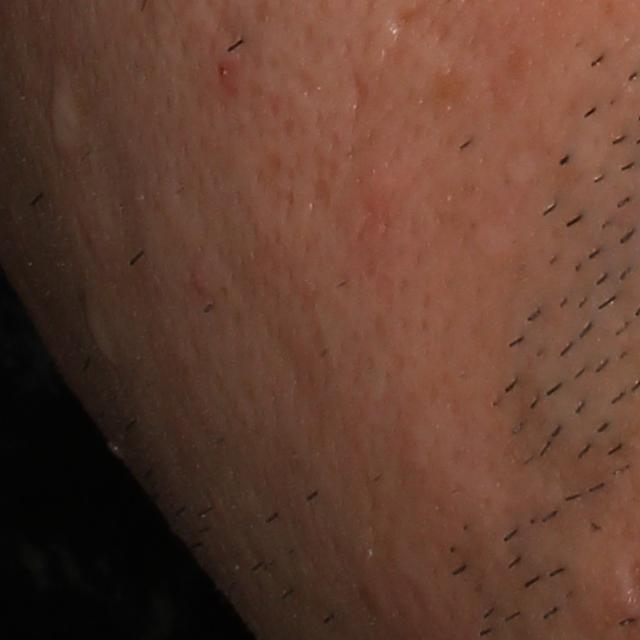atrophic_scar: (383, 4, 431, 41), (349, 71, 374, 133)
hypertrophic_scar: (45, 63, 95, 170)
papule: (189, 270, 219, 305)
